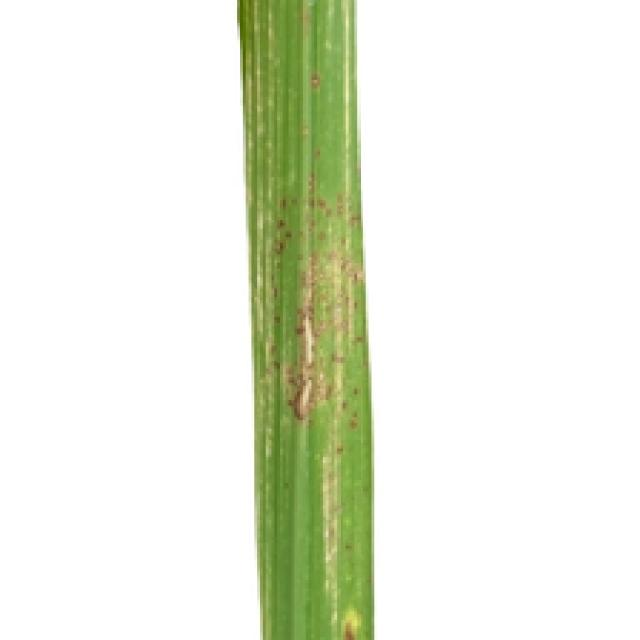Rice___Brown_Spot: (235, 0, 374, 637)
